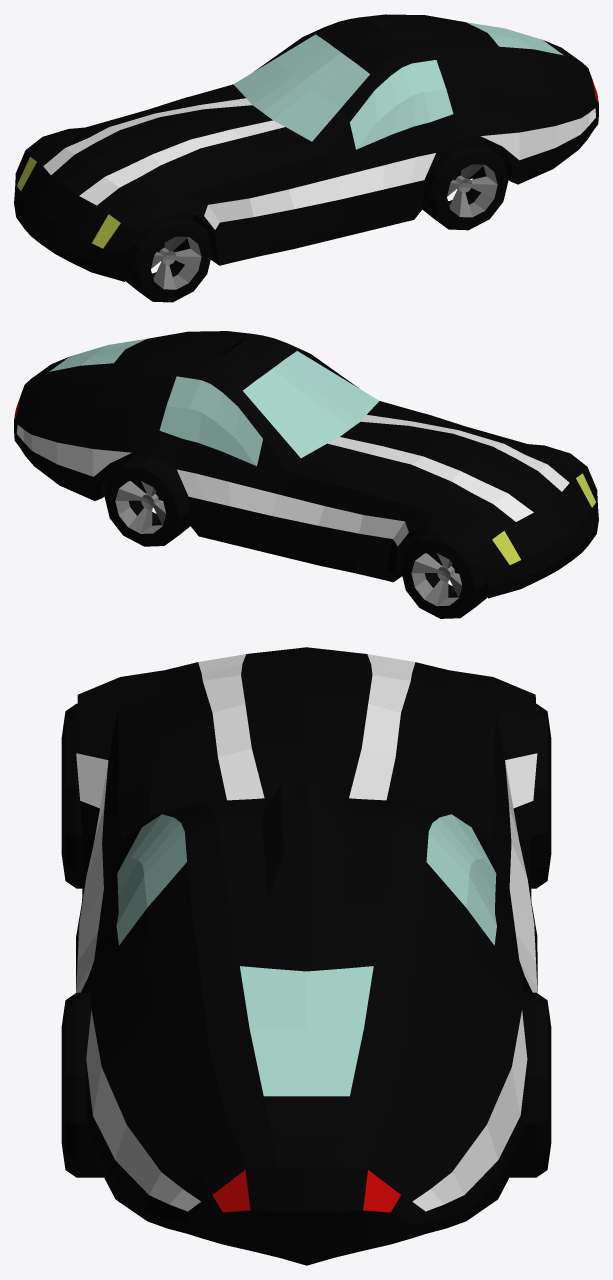
The model's file is Car.fbx.
The picture shows the model from 3 angles, top to bottom: view 1: azimuth 30°, elevation 25°; view 2: azimuth 150°, elevation 25°; view 3: azimuth 270°, elevation 25°; orthographic projection. The views are drawn at different scales.
Parts seen in each view (by area): view 1: Plane, Cylinder.004, Cylinder; view 2: Plane, Cylinder.002, Cylinder.001; view 3: Plane, Cylinder.004, Cylinder.002, Cylinder, Cylinder.001.
Boxes of the visible parts, x1,y1,x2,y2 form: Plane: (14,14,598,281); Cylinder.004: (422,136,508,230); Cylinder: (124,213,212,302); Plane: (14,331,598,598); Cylinder.002: (104,453,190,546); Cylinder.001: (400,529,488,618); Plane: (76,647,537,1265); Cylinder.004: (61,992,103,1177); Cylinder.002: (509,992,551,1177); Cylinder: (61,703,83,888); Cylinder.001: (529,703,551,888).
Bounding box in the file's own units: 720 × 220 × 278.
